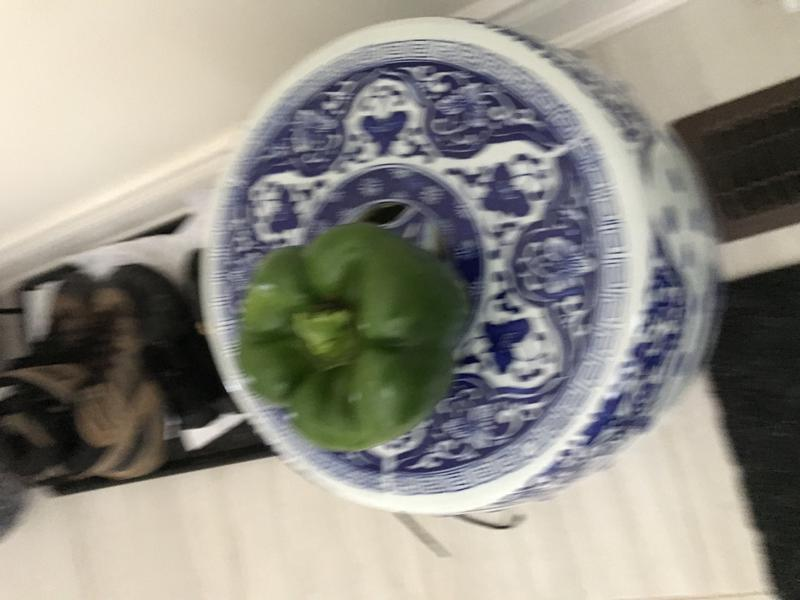green_pepper: (213, 209, 482, 456)
